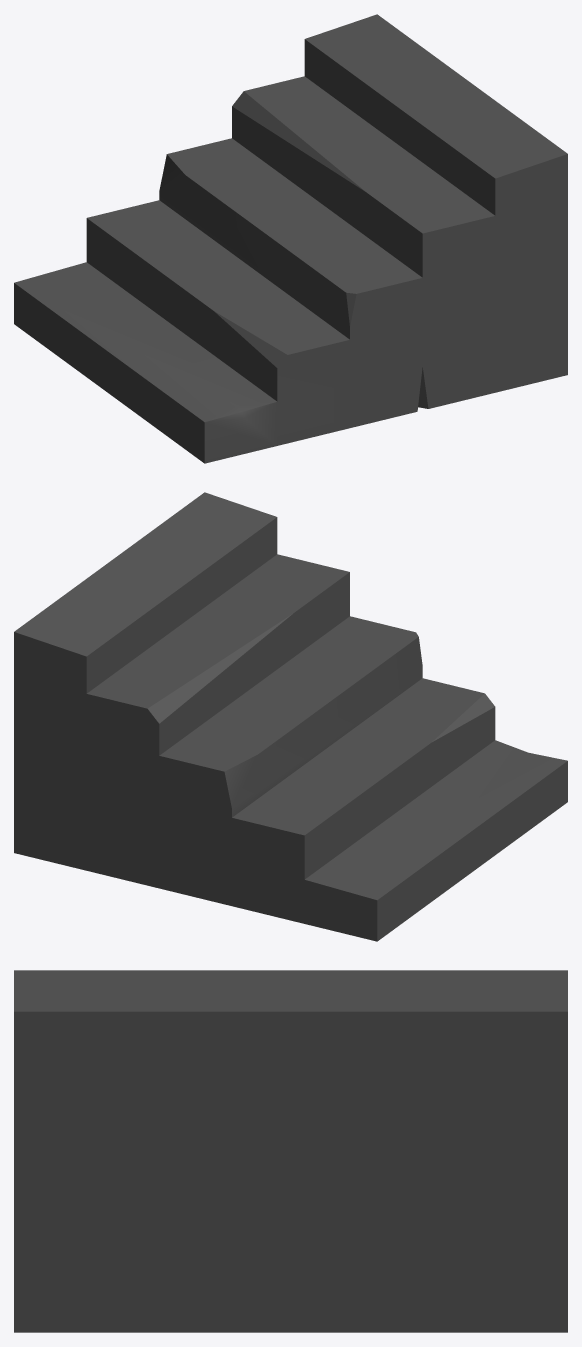
The model's file is Stairs_01.fbx.
The picture shows the model from 3 angles, top to bottom: view 1: azimuth 30°, elevation 25°; view 2: azimuth 150°, elevation 25°; view 3: azimuth 270°, elevation 25°; orthographic projection. The views are drawn at different scales.
Visible parts, largest first — view 1: Stairs_01_LOD0; view 2: Stairs_01_LOD0; view 3: Stairs_01_LOD0.
Boxes of the visible parts, x1,y1,x2,y2 form: Stairs_01_LOD0: [14, 14, 567, 463]; Stairs_01_LOD0: [14, 492, 567, 941]; Stairs_01_LOD0: [14, 970, 567, 1332].
Size of what is drawn, in the model's own units: 0.99 by 0.576 by 0.9.
